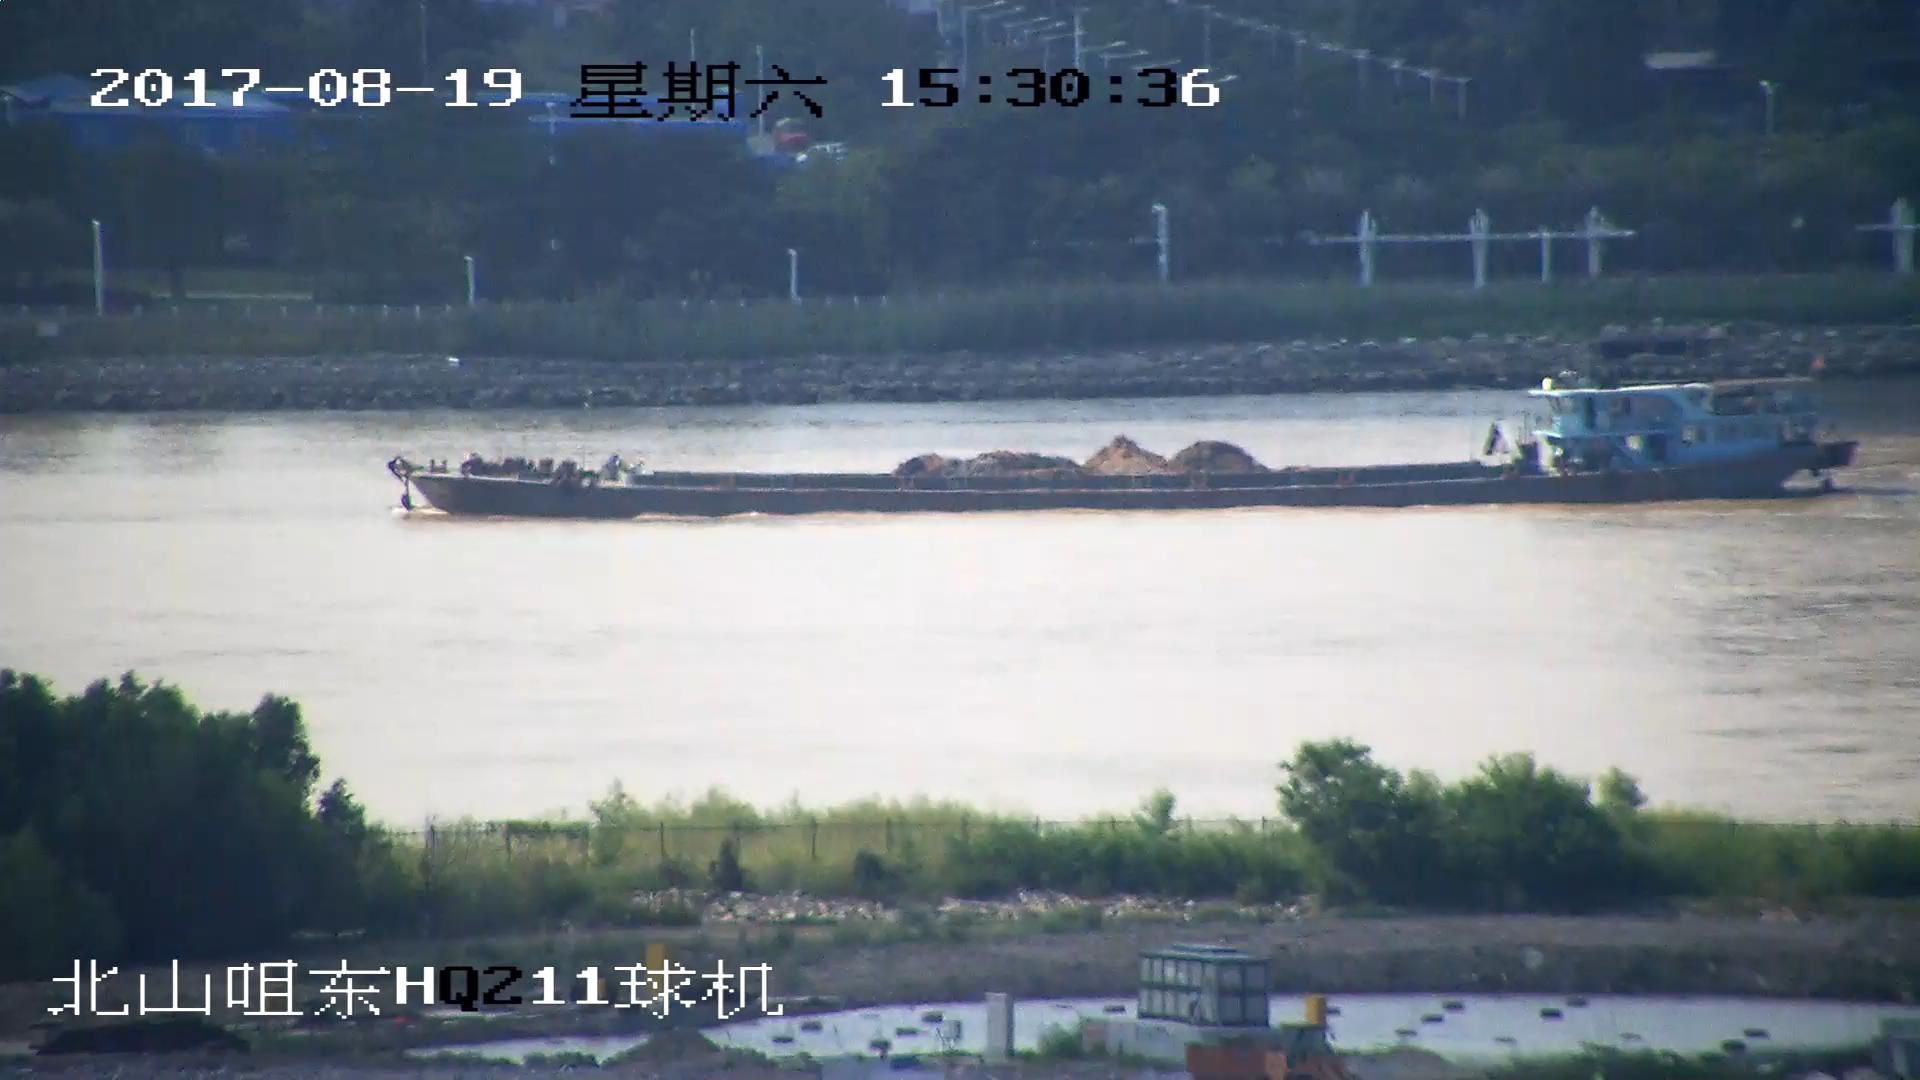ore carrier: (390, 375, 1859, 522)
